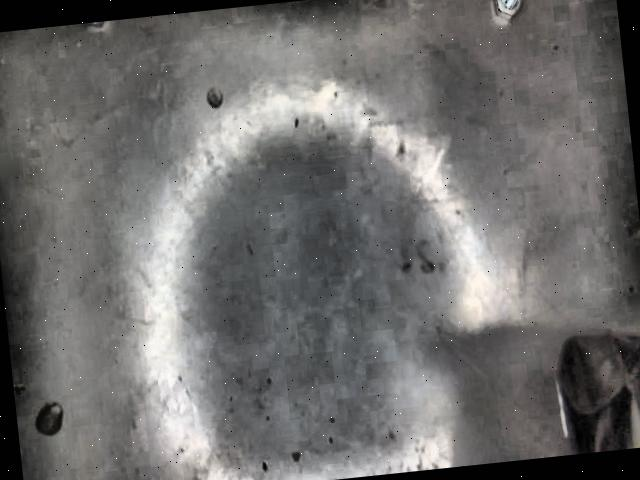Paper: (558, 329, 640, 455)
